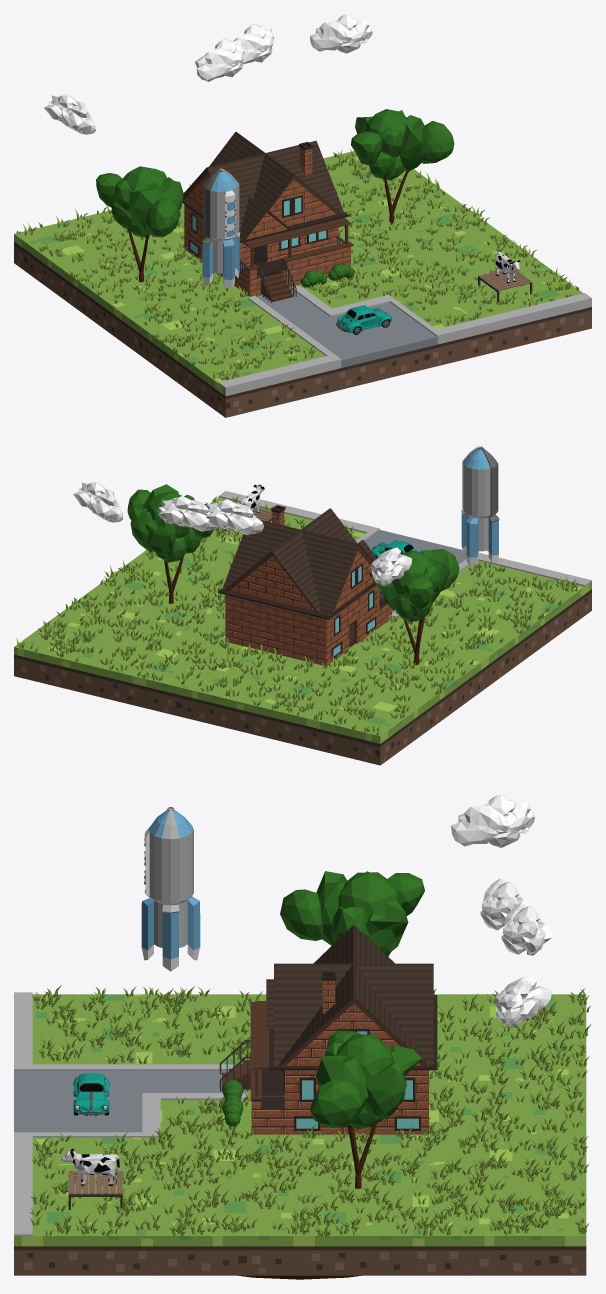
The picture shows the model from 3 angles, top to bottom: view 1: azimuth 30°, elevation 25°; view 2: azimuth 150°, elevation 25°; view 3: azimuth 270°, elevation 25°; orthographic projection. The views are drawn at different scales.
Visible parts, largest first — view 1: Cube.006, Circle.012_Grass_0.192, Cube.469, Cube.007, tree, tree.001, OBJRANDOM_ROCKETSHIP, VEHICLES_VOLKSWAGEN, Cube.009; view 2: Cube.006, Cube.469, Circle.012_Grass_0.192, Cube.007, OBJRANDOM_ROCKETSHIP, tree.001, tree; view 3: Cube.006, Circle.012_Grass_0.192, Cube.469, tree, Cube.007, tree.001, OBJRANDOM_ROCKETSHIP, VEHICLES_VOLKSWAGEN, Cube.009, ANIMAL_VACA.
Part boxes in pixels (x1,y1,x2,y2): Cube.006: (14, 151, 591, 417); Circle.012_Grass_0.192: (16, 148, 578, 380); Cube.469: (182, 131, 353, 302); Cube.007: (44, 14, 372, 134); tree: (351, 109, 454, 224); tree.001: (96, 166, 183, 282); OBJRANDOM_ROCKETSHIP: (202, 168, 240, 288); VEHICLES_VOLKSWAGEN: (336, 305, 392, 334); Cube.009: (478, 270, 532, 301); Cube.006: (14, 491, 591, 765); Cube.469: (218, 505, 391, 665); Circle.012_Grass_0.192: (16, 496, 578, 735); Cube.007: (73, 481, 411, 586); OBJRANDOM_ROCKETSHIP: (461, 446, 499, 566); tree.001: (368, 549, 459, 664); tree: (127, 484, 213, 603); Cube.006: (14, 992, 586, 1275); Circle.012_Grass_0.192: (29, 985, 591, 1237); Cube.469: (219, 925, 437, 1134); tree: (310, 1030, 421, 1188); Cube.007: (451, 794, 551, 1027); tree.001: (280, 871, 424, 956); OBJRANDOM_ROCKETSHIP: (141, 807, 200, 971); VEHICLES_VOLKSWAGEN: (73, 1073, 109, 1116); Cube.009: (68, 1170, 122, 1209); ANIMAL_VACA: (61, 1148, 120, 1185).
Bounding box in the file's own units: 4071 × 2242 × 4040.
Materials: 35 (4 with a texture image).
